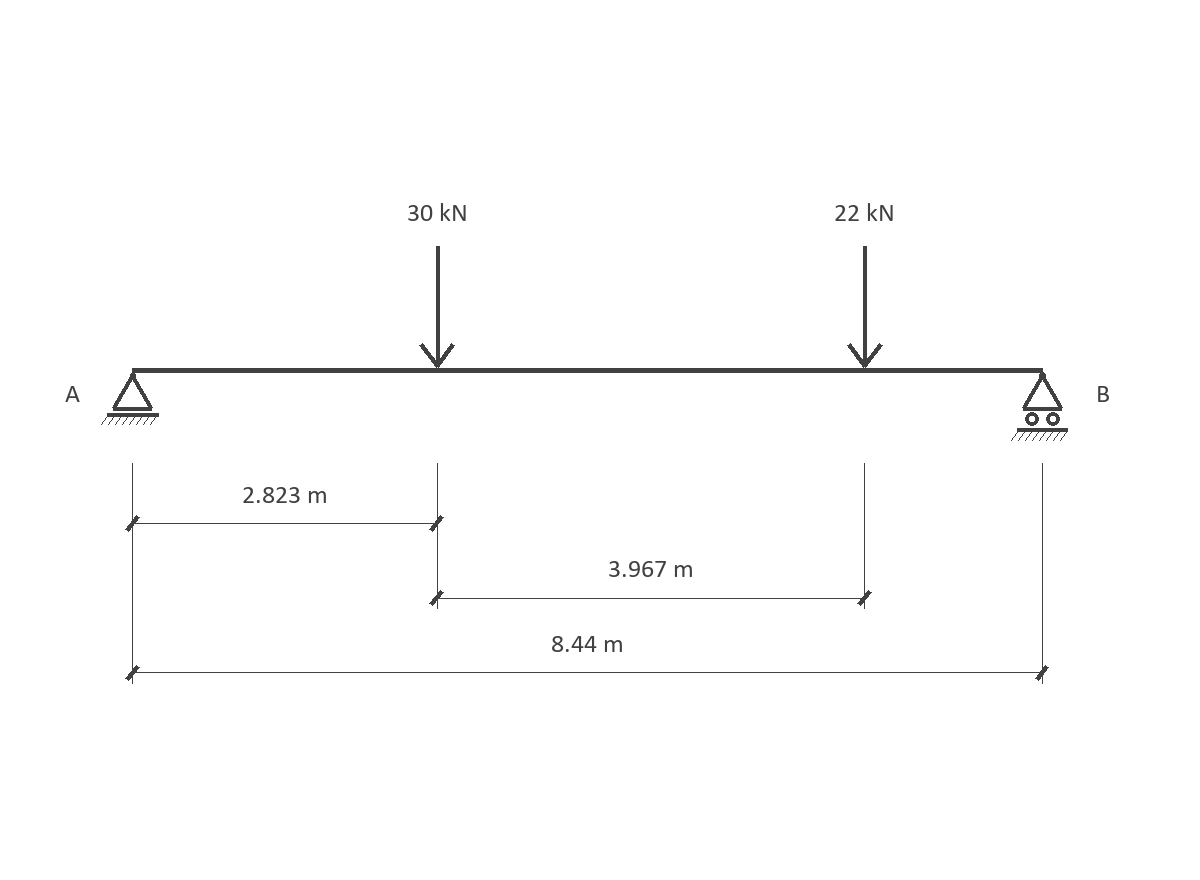pin_support: (101, 372, 159, 425)
point_load: (419, 246, 455, 368), (847, 246, 883, 368)
roller_support: (1011, 372, 1068, 441)
